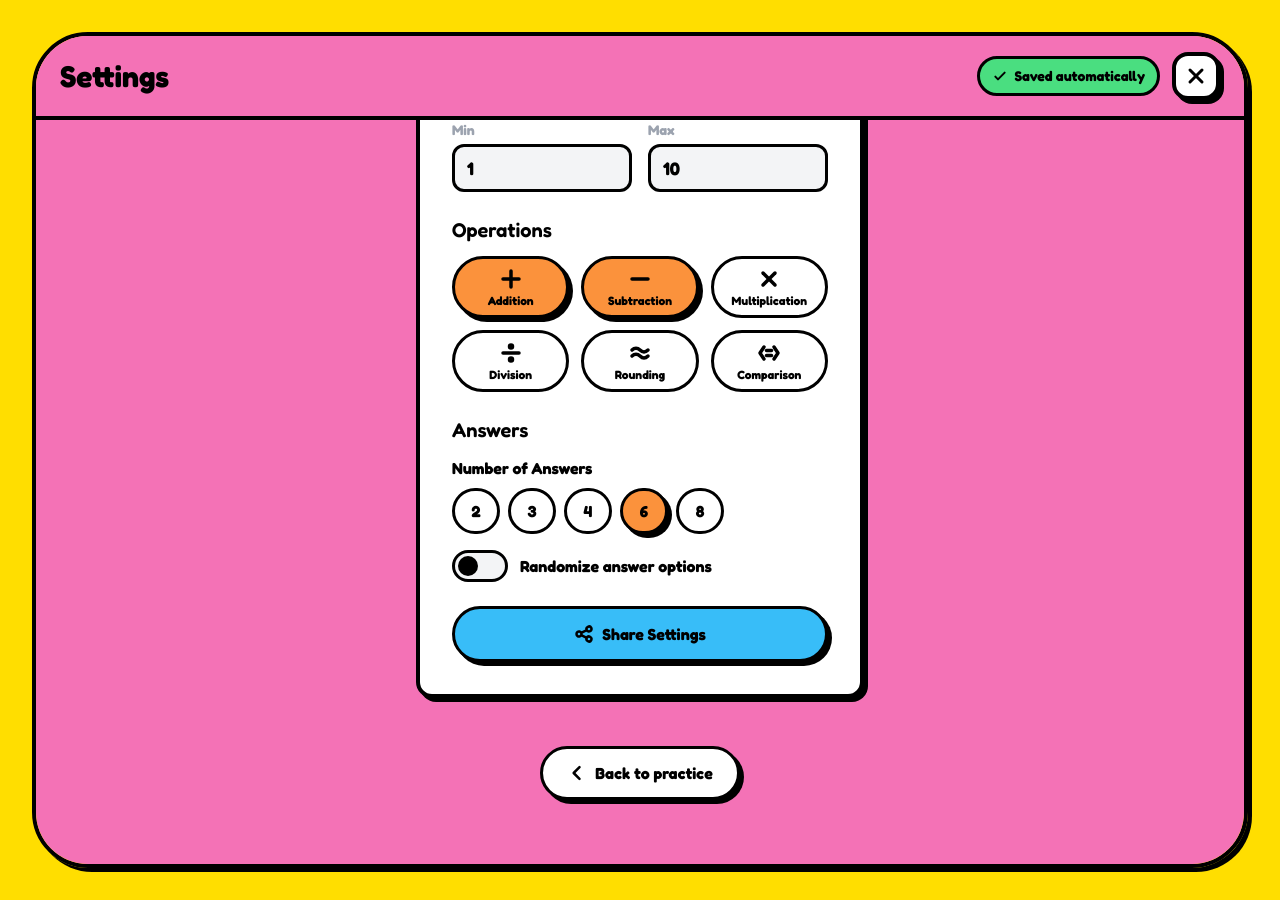
Settings Page › opens the native share sheet when available
(page scrolled)
Click the button "Share Settings".
click(640, 634)  # box [452,606,828,662]
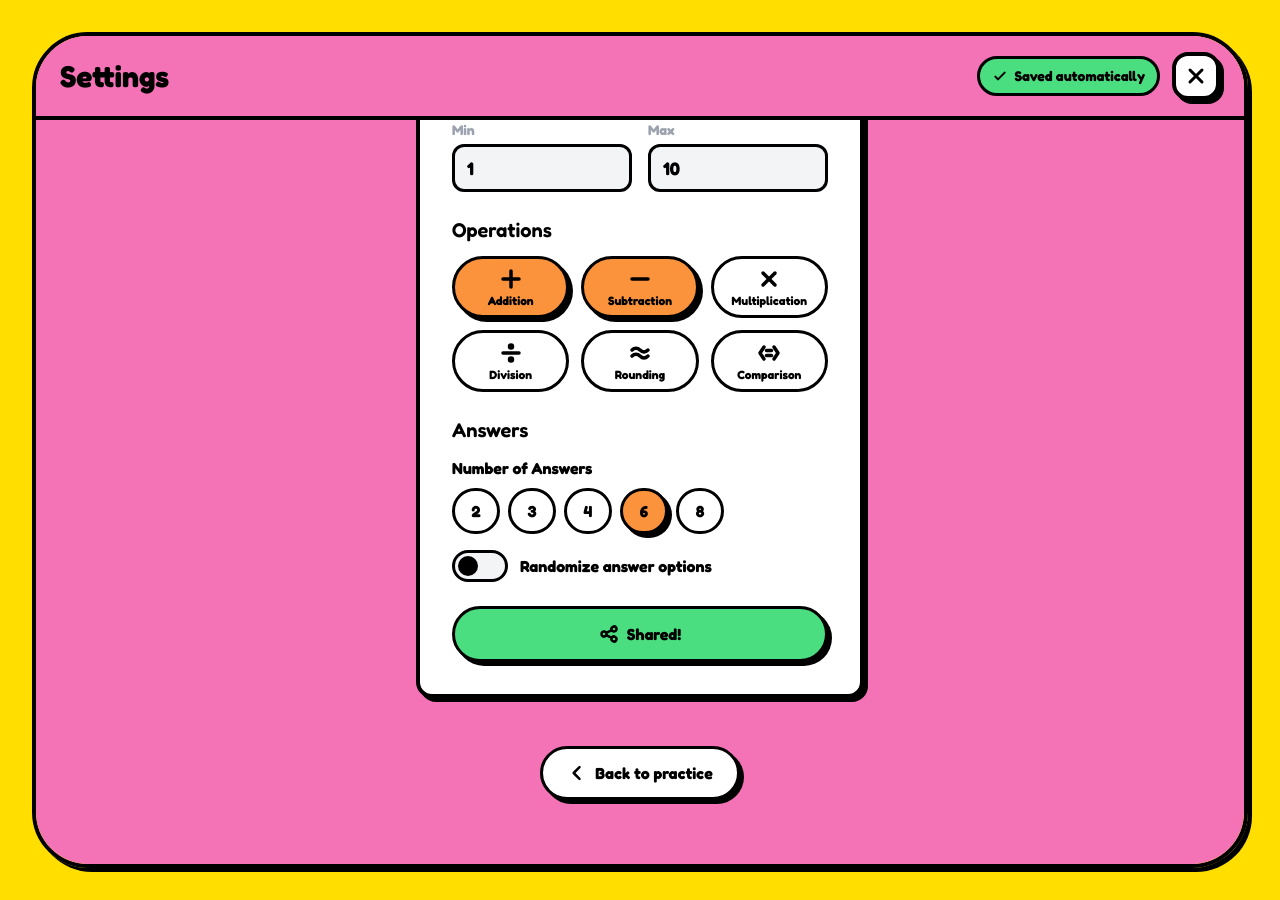
Expected: the button "Share Settings" reads "Shared!", [452,606,828,662]
